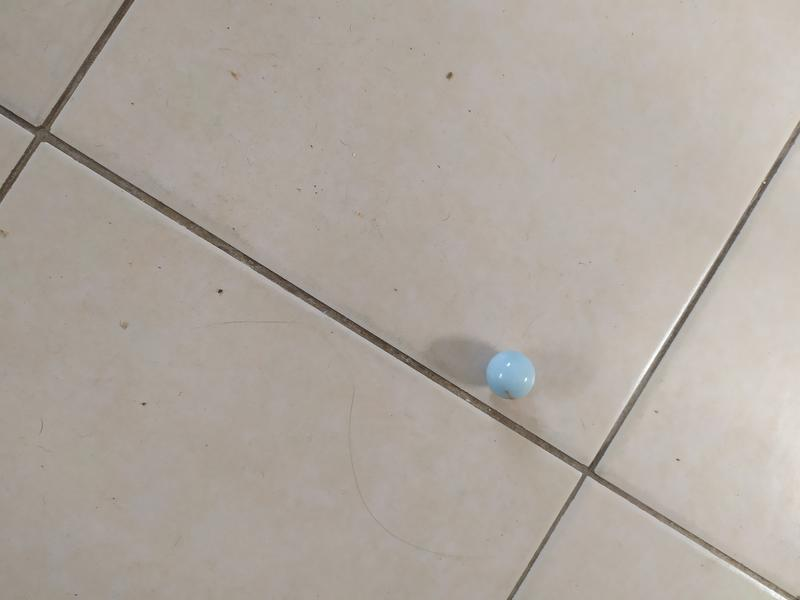Warning: (484, 348, 540, 401)
